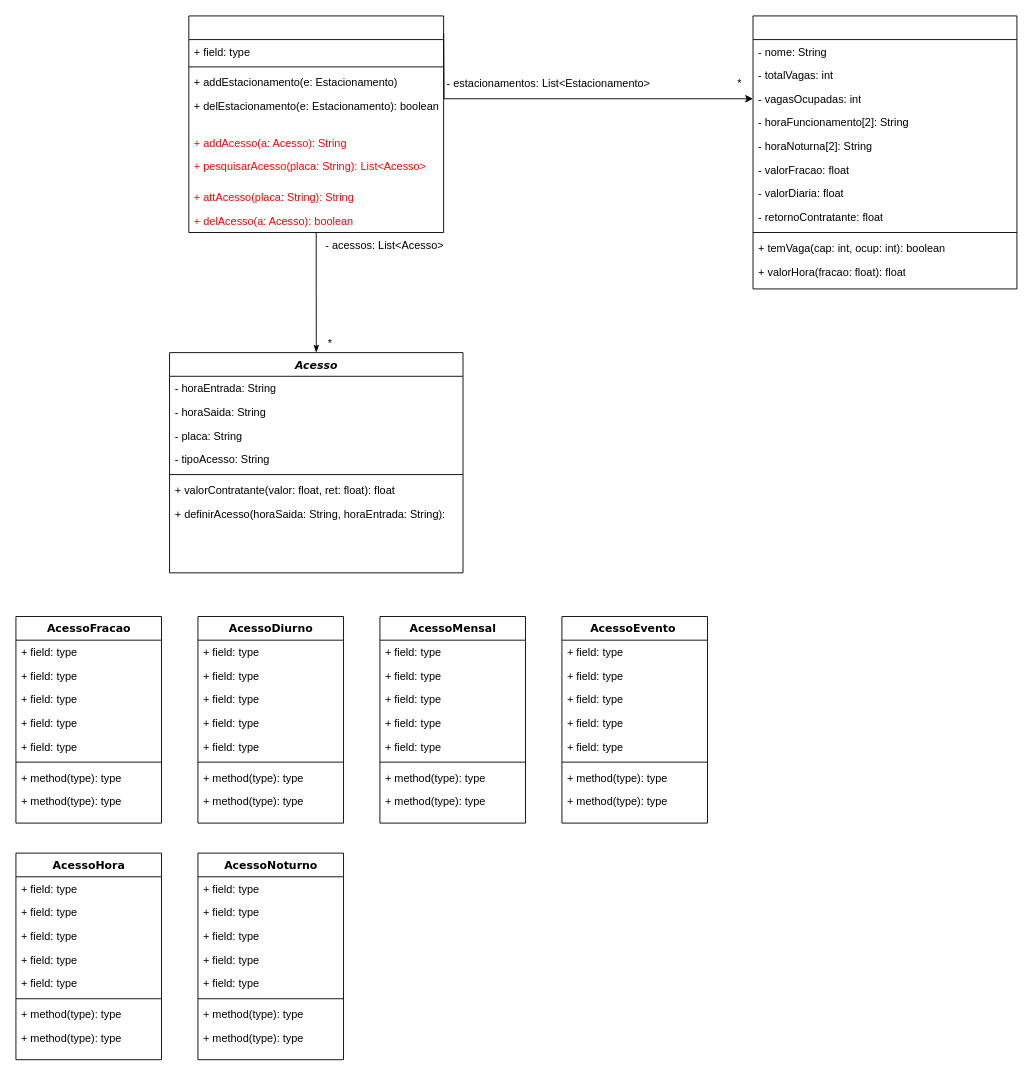
This 1033x1076 diagram has some shape labels left out. The shapes that lost their labels are listed below. From the top down, each one's box as (x1, y1, x2, y2) in pixels, then its label:
(188, 15, 444, 233): Gerenciamento
(752, 15, 1017, 289): Estacionamento
